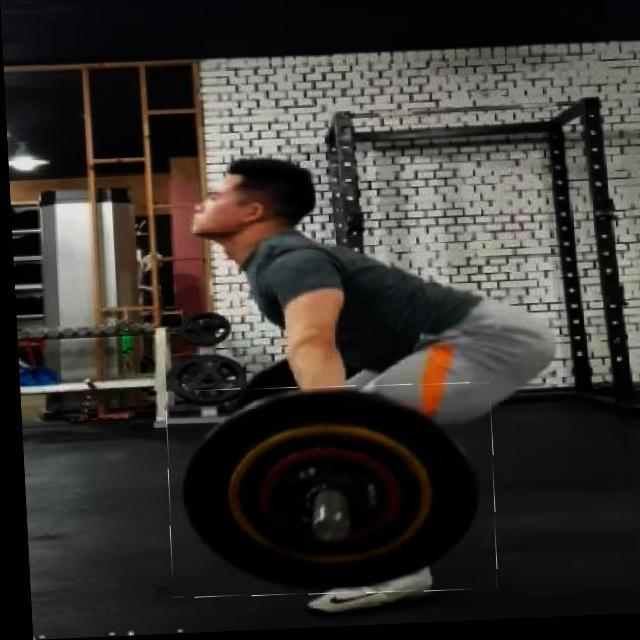barbell: (161, 384, 494, 604)
